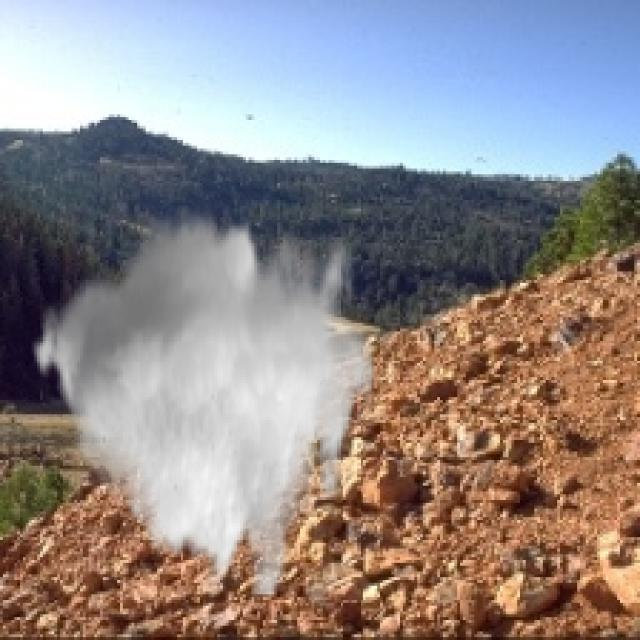smoke: (26, 206, 374, 597)
